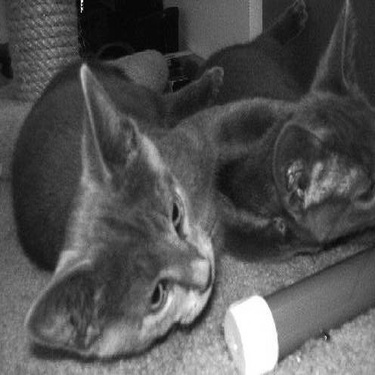cat: (19, 17, 283, 360), (188, 1, 369, 250)
